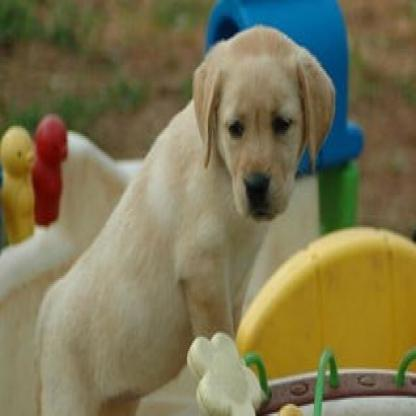dog: (29, 30, 337, 416)
